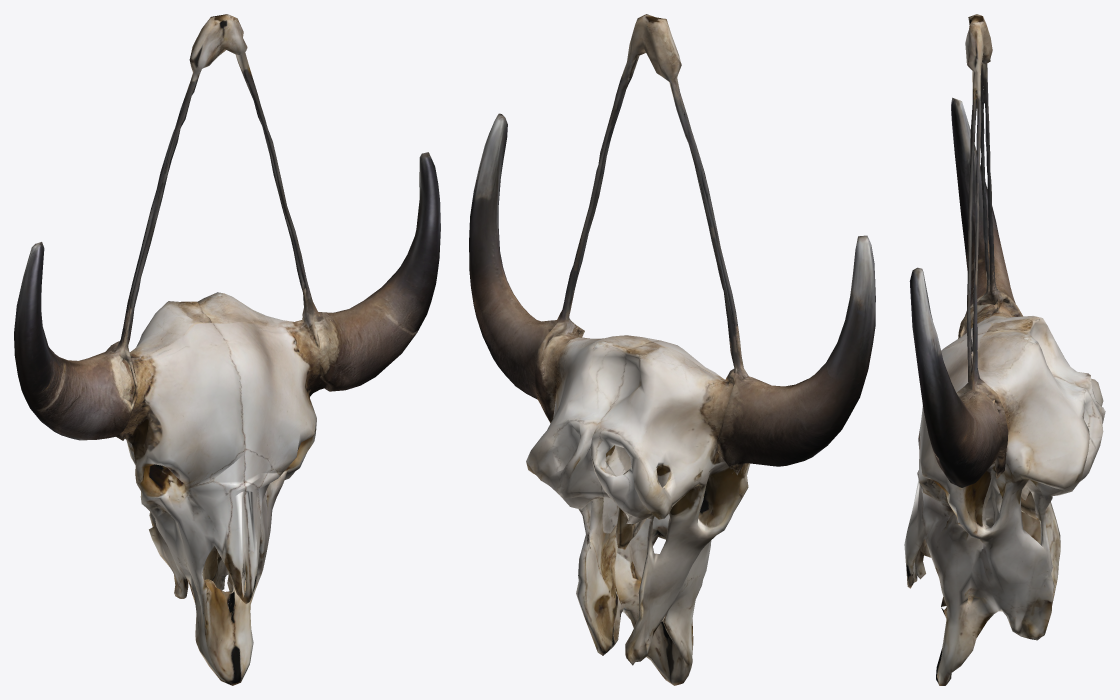
Rendered from asset.glb.
3 renders of one model, left to right at view 1: azimuth 30°, elevation 25°; view 2: azimuth 150°, elevation 25°; view 3: azimuth 270°, elevation 25°, orthographic. The views are drawn at different scales.
Parts seen in each view (by area): view 1: Mesh_0.002; view 2: Mesh_0.002; view 3: Mesh_0.002.
Part boxes in pixels (x1,y1,x2,y2): Mesh_0.002: [14, 14, 440, 685]; Mesh_0.002: [469, 14, 875, 685]; Mesh_0.002: [904, 14, 1105, 685].
Bounding box in the file's own units: 1.29 × 2 × 0.5454.
1 material, 1 textured.
